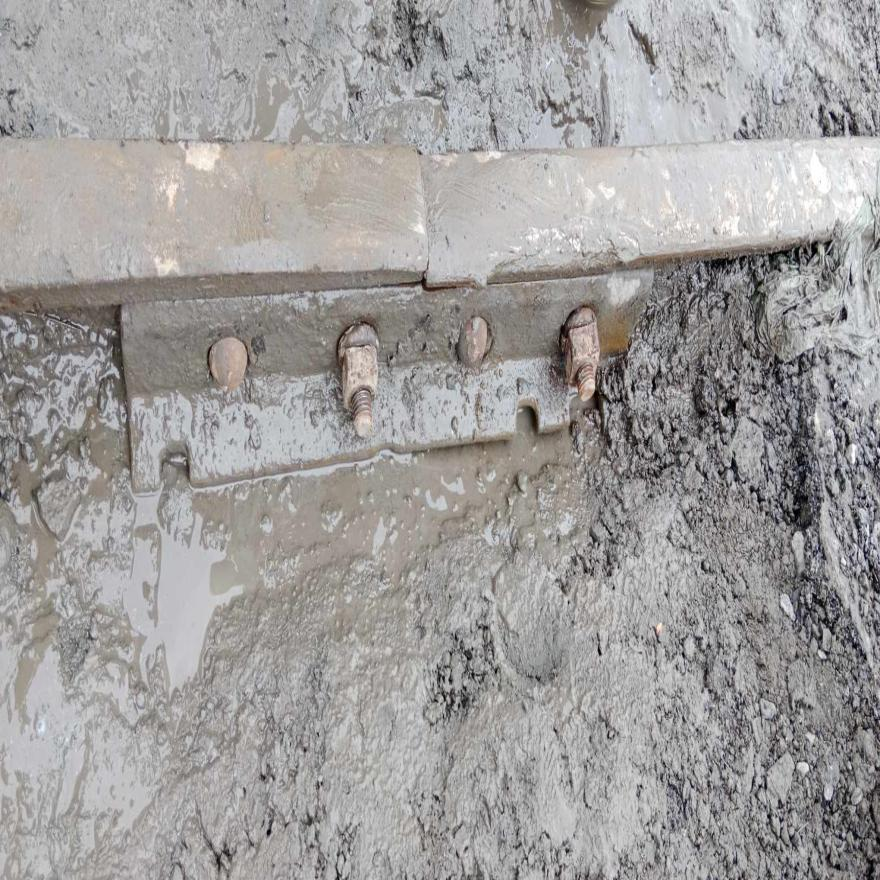railway-gap: (365, 74, 484, 325)
